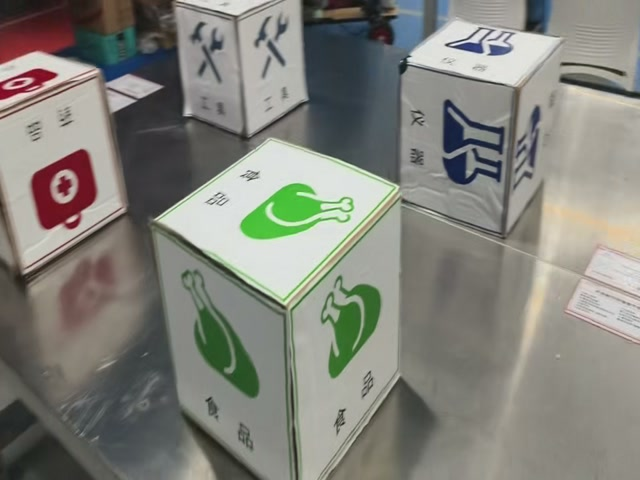Cube_food: (152, 140, 400, 317)
Cube_ins: (406, 20, 561, 91)
Cube_medicine: (0, 52, 101, 117)
Cube_tool: (176, 0, 300, 24)
